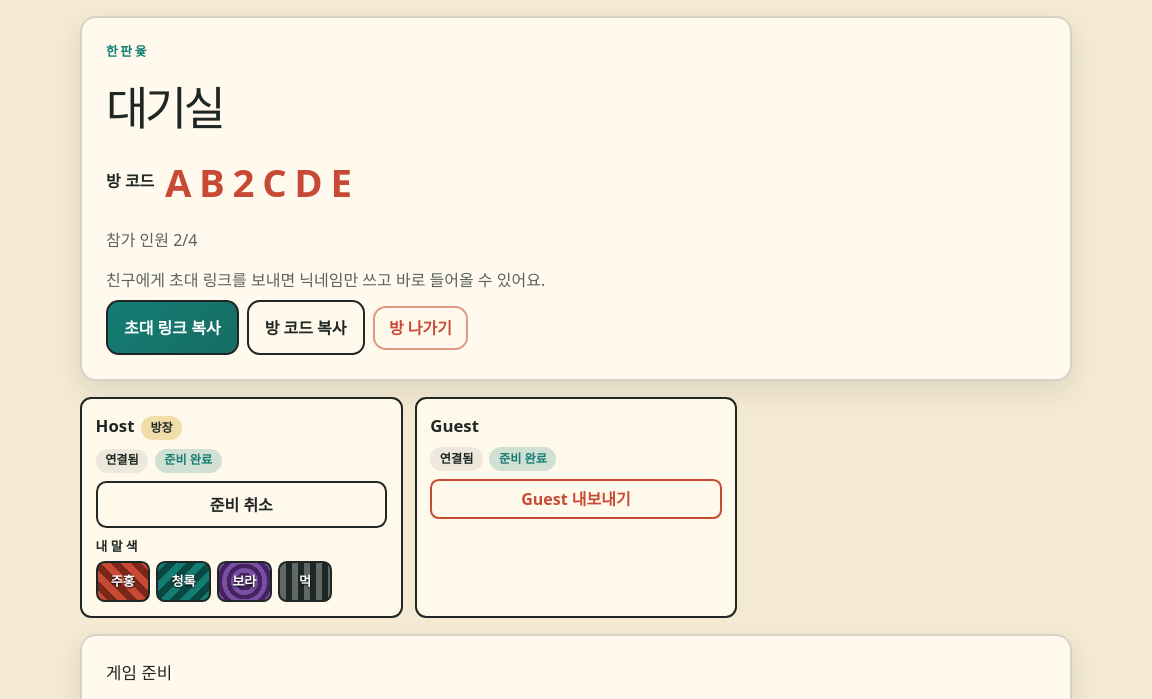
Scenario: WaitingRoom › explains how to copy the code when the Clipboard API is unavailable
Click the button "방 코드 복사".
click(306, 328)  # box x1=247 y1=300 x2=364 y2=355
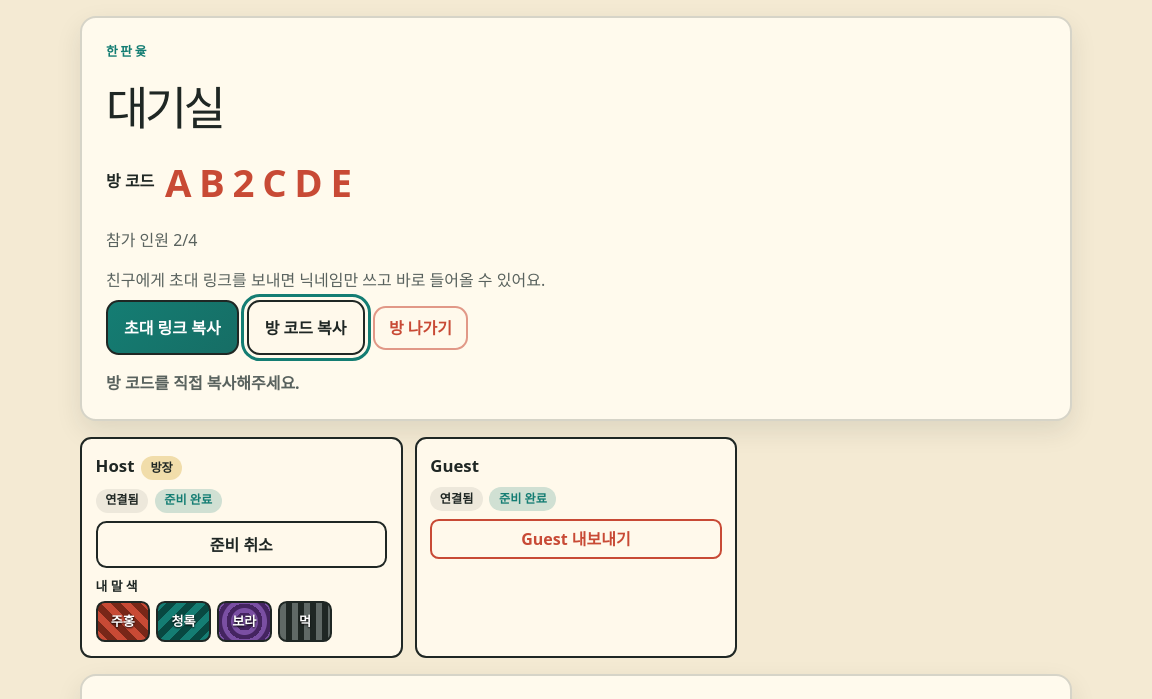
Result: the message reads "방 코드를 직접 복사해주세요." at x1=106 y1=372 x2=300 y2=394
